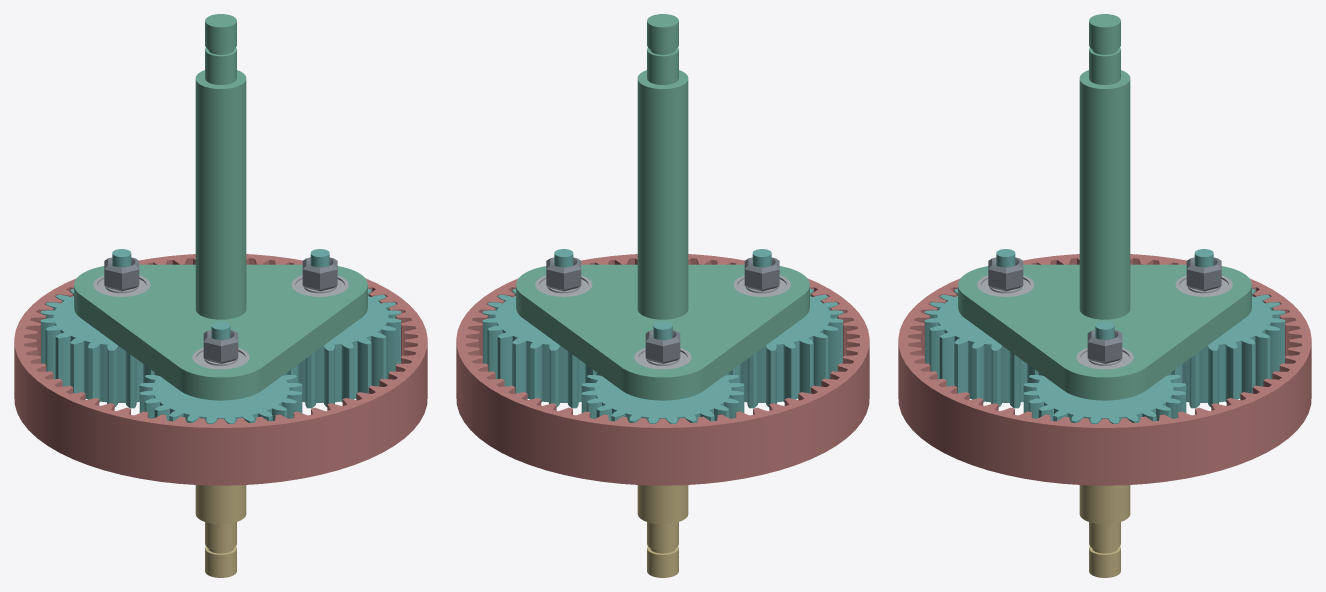
Rendered from step_23.glb.
The picture shows the model from 3 angles, left to right: view 1: azimuth 30°, elevation 25°; view 2: azimuth 150°, elevation 25°; view 3: azimuth 270°, elevation 25°; orthographic projection.
Parts seen in each view (by area): view 1: part__carrier, part__ring gear, part__planet gear 1, part__planet gear 2, part__planet gear 3, part__sun gear, part__lock nut M3 1, part__lock nut M3 2, part__lock nut M3 3, part__bearing 3, part__bearing 1, part__bearing 2; view 2: part__carrier, part__ring gear, part__planet gear 1, part__planet gear 3, part__planet gear 2, part__sun gear, part__lock nut M3 1, part__lock nut M3 3, part__lock nut M3 2, part__bearing 2, part__bearing 1, part__bearing 3; view 3: part__carrier, part__ring gear, part__planet gear 2, part__planet gear 3, part__planet gear 1, part__sun gear, part__lock nut M3 2, part__lock nut M3 3, part__lock nut M3 1, part__bearing 1, part__bearing 2, part__bearing 3.
Boxes of the visible parts, x1,y1,x2,y2 form: part__carrier: (74, 14, 367, 400); part__ring gear: (14, 254, 427, 485); part__planet gear 1: (287, 249, 401, 408); part__planet gear 2: (40, 249, 154, 408); part__planet gear 3: (139, 321, 302, 423); part__sun gear: (195, 485, 246, 577); part__lock nut M3 1: (302, 257, 337, 291); part__lock nut M3 2: (104, 257, 139, 291); part__lock nut M3 3: (203, 330, 238, 363); part__bearing 3: (192, 348, 249, 369); part__bearing 1: (291, 275, 348, 296); part__bearing 2: (93, 275, 150, 296); part__carrier: (516, 14, 809, 400); part__ring gear: (456, 254, 869, 485); part__planet gear 1: (482, 249, 596, 408); part__planet gear 3: (729, 249, 843, 408); part__planet gear 2: (581, 321, 744, 423); part__sun gear: (637, 485, 688, 577); part__lock nut M3 1: (546, 257, 581, 291); part__lock nut M3 3: (744, 257, 779, 291); part__lock nut M3 2: (645, 330, 680, 363); part__bearing 2: (634, 348, 691, 369); part__bearing 1: (535, 275, 592, 296); part__bearing 3: (733, 275, 790, 296); part__carrier: (958, 14, 1251, 400); part__ring gear: (898, 254, 1311, 485); part__planet gear 2: (1171, 249, 1285, 408); part__planet gear 3: (924, 249, 1038, 408); part__planet gear 1: (1023, 321, 1186, 423); part__sun gear: (1079, 485, 1130, 577); part__lock nut M3 2: (1186, 257, 1221, 291); part__lock nut M3 3: (988, 257, 1023, 291); part__lock nut M3 1: (1087, 330, 1122, 363); part__bearing 1: (1076, 348, 1133, 369); part__bearing 2: (1175, 275, 1232, 296); part__bearing 3: (977, 275, 1034, 296).
Bounding box in the file's own units: 64.96 × 95.5 × 64.98.
